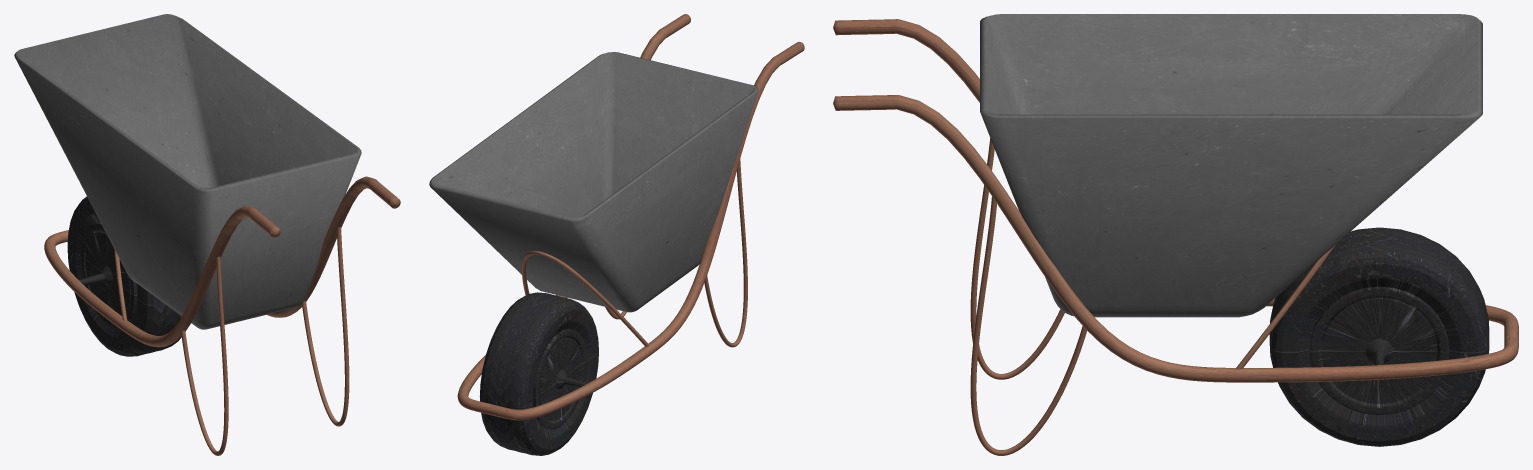
3 renders of one model, left to right at view 1: azimuth 30°, elevation 25°; view 2: azimuth 150°, elevation 25°; view 3: azimuth 270°, elevation 25°, orthographic. The views are drawn at different scales.
Visible parts, largest first — view 1: 容器, 支架, 轮子; view 2: 容器, 轮子, 支架; view 3: 容器, 轮子, 支架.
Boxes of the visible parts, bbox=[...] form: 容器: bbox=[14, 14, 361, 329]; 支架: bbox=[44, 176, 400, 455]; 轮子: bbox=[67, 196, 181, 356]; 容器: bbox=[429, 52, 758, 312]; 轮子: bbox=[479, 292, 598, 455]; 支架: bbox=[457, 14, 804, 420]; 容器: bbox=[980, 14, 1482, 317]; 轮子: bbox=[1269, 227, 1489, 446]; 支架: bbox=[833, 19, 1518, 455].
Bounding box in the file's own units: 84.25 × 142 × 234.
Materials: 3 (3 with a texture image).
